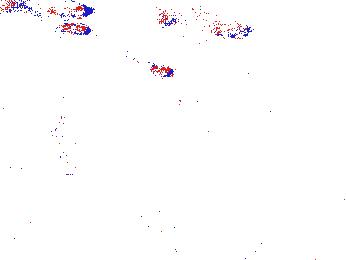X-ray fish: (47, 115, 75, 167)
glassfish: (194, 55, 302, 122)
red belly glassfish: (35, 12, 92, 37), (133, 53, 174, 80), (162, 88, 188, 109)
redtail glassfish: (152, 5, 255, 41), (2, 1, 93, 19)
